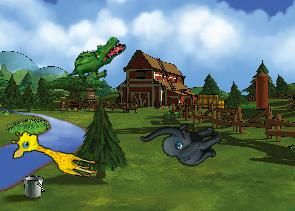crocodile: (65, 25, 128, 94)
elephant: (139, 100, 227, 184)
giraffe: (7, 127, 101, 180)
